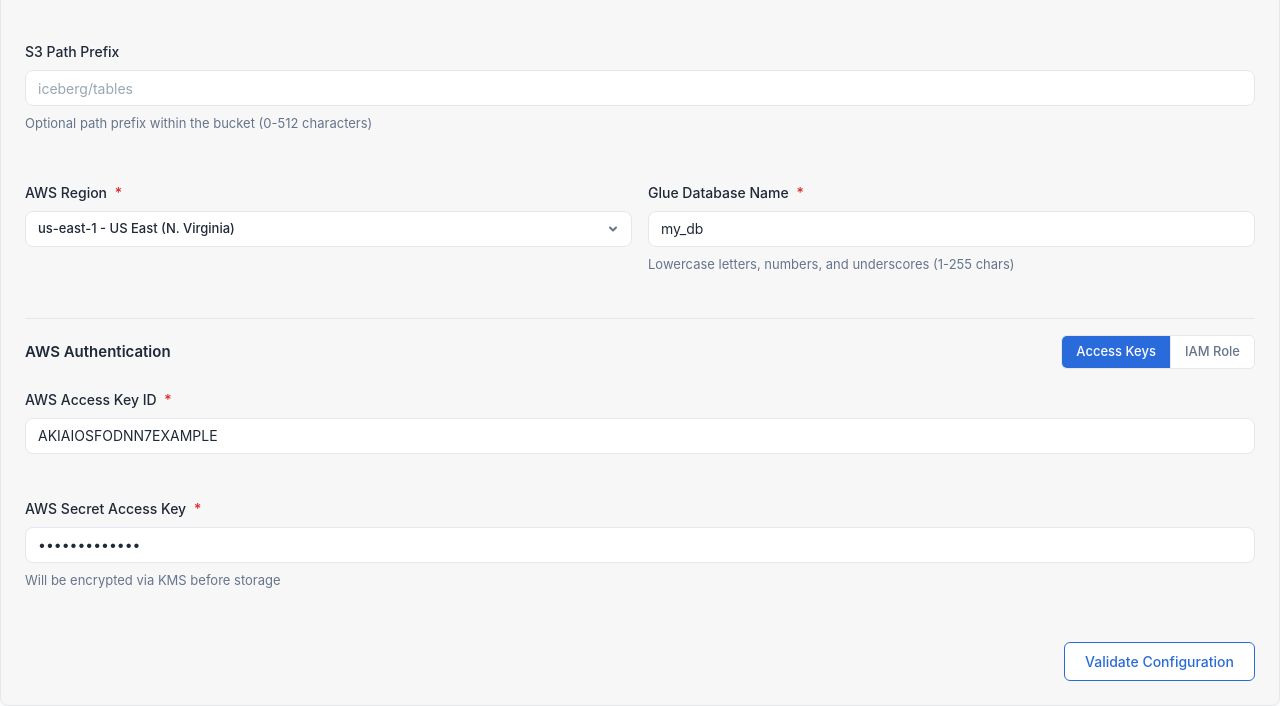
IcebergDestinationStep › Summary panel display (Req 9.3) › shows summary panel after successful validation
The image size is (1280, 706).
(page scrolled)
Click the button "Validate Configuration" at (1160, 662), box 1064,642 -> 1255,681
(page scrolled)
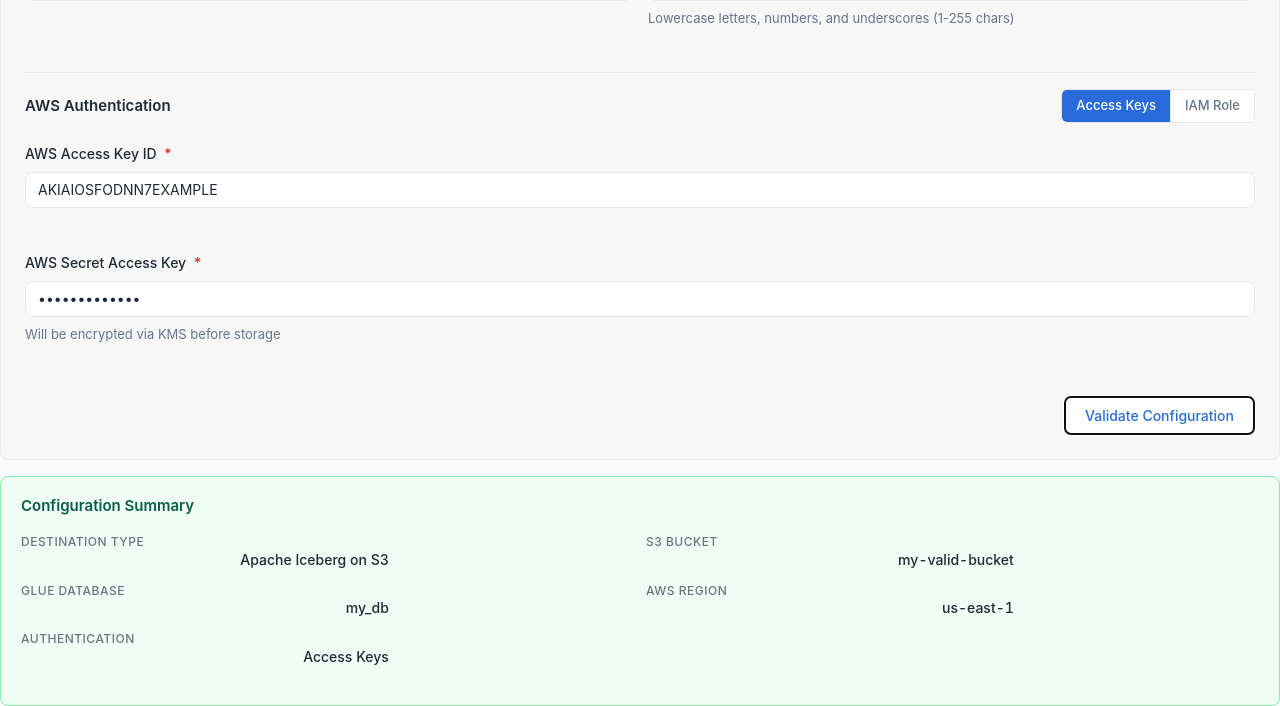
Check: the heading "Configuration Summary" is shown, box 21,496 -> 194,515
Check: the text "Apache Iceberg on S3" is shown, box 240,551 -> 389,568
Check: the text "my-valid-bucket" is shown, box 898,551 -> 1014,568
